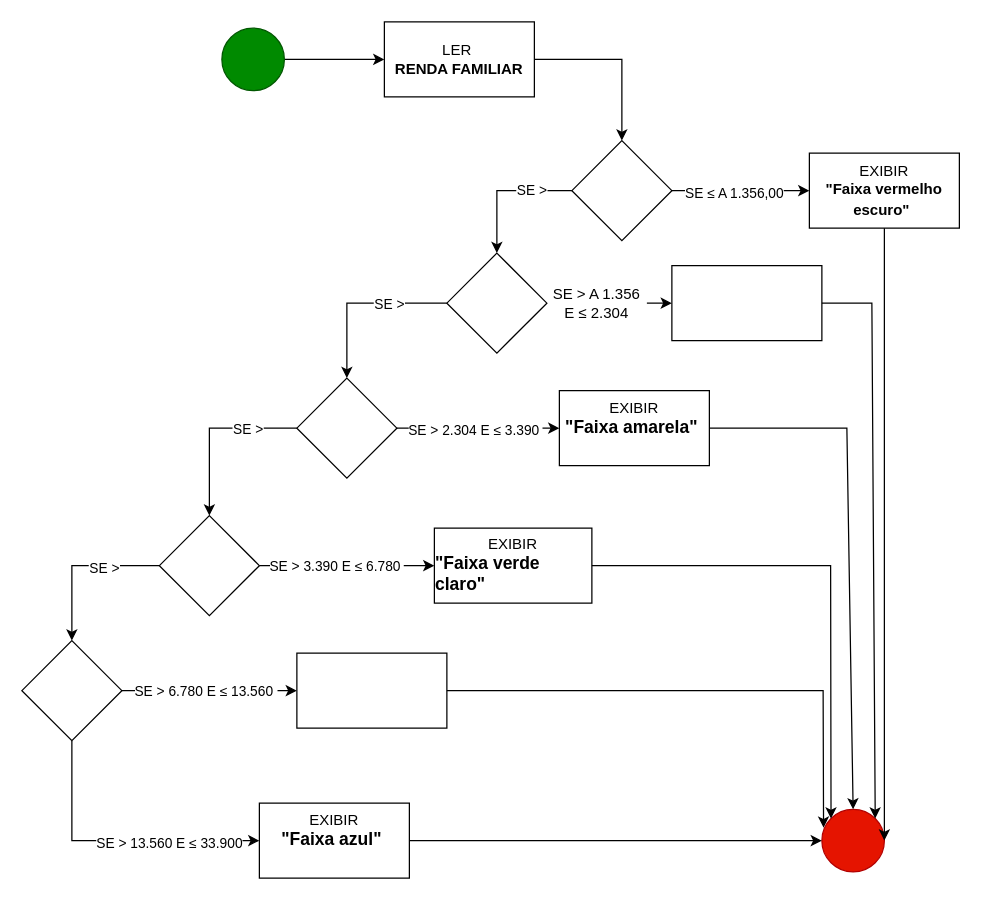
This 981x900 diagram has some shape labels left out. The shapes that lost their labels are listed below. From the top down, each one's centre as x and y in pixels, then its label:
point (746, 302): EXIBIR "Faixa vermelha"
point (371, 690): EXIBIR "Faixa verde"
